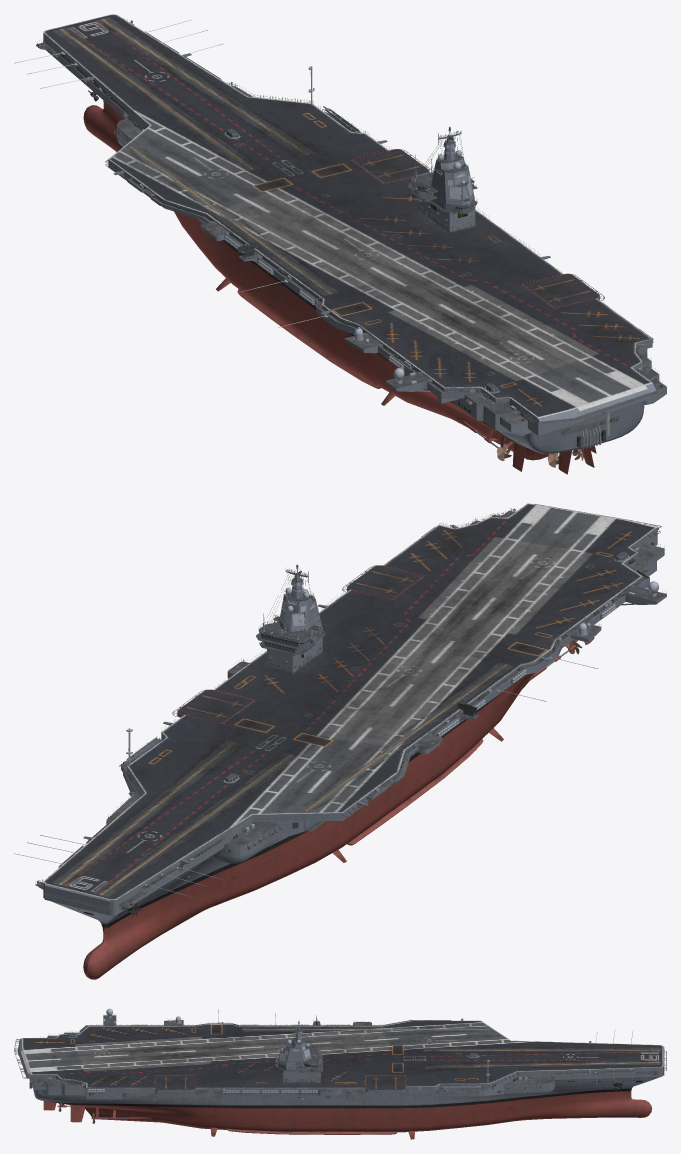
File: type-004_aircraft_carrier.glb
3 views of the same model, one above another, from view 1: azimuth 30°, elevation 25°; view 2: azimuth 150°, elevation 25°; view 3: azimuth 270°, elevation 25° (orthographic). The views are drawn at different scales.
Parts seen in each view (by area): view 1: Object_2, Object_3; view 2: Object_2, Object_3; view 3: Object_2, Object_3.
Part boxes in pixels (box(x1,y1,x2,y2)): Object_2: box(14, 14, 666, 474); Object_3: box(38, 19, 665, 433); Object_2: box(14, 503, 666, 979); Object_3: box(35, 503, 665, 909); Object_2: box(17, 1008, 664, 1139); Object_3: box(14, 1014, 666, 1097).
Size of the model in its own units: 101 by 68.57 by 334.
2 materials, 2 textured.
